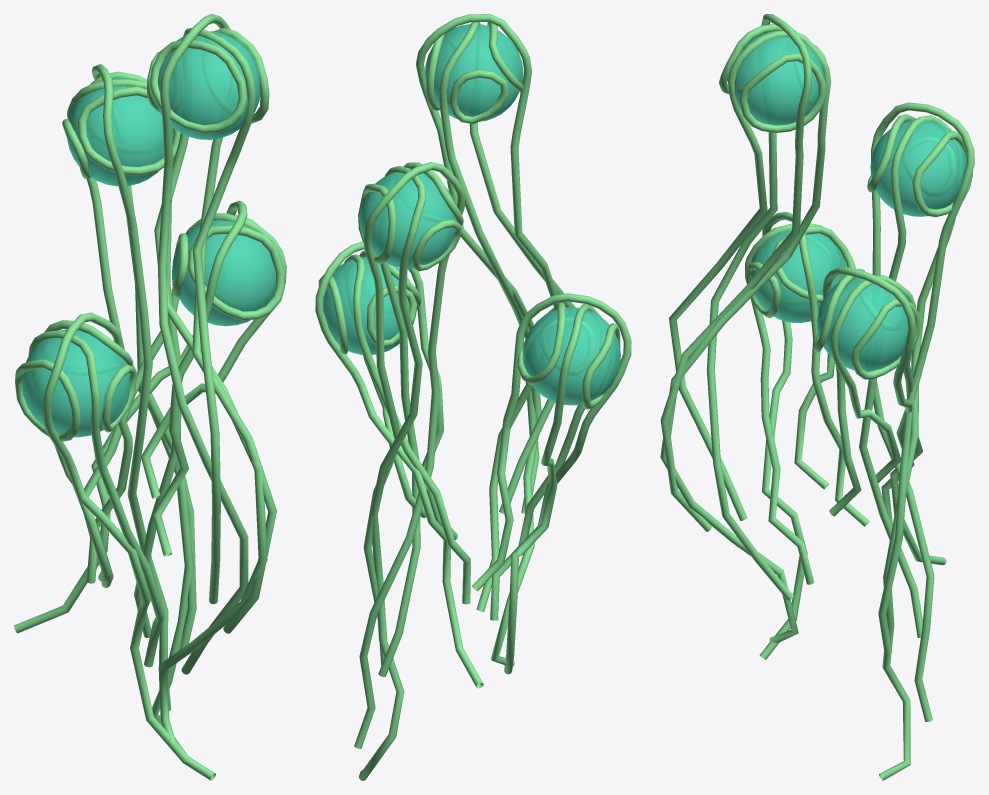
File: Floating balls.fbx
3 views of the same model, side by side, from view 1: azimuth 30°, elevation 25°; view 2: azimuth 150°, elevation 25°; view 3: azimuth 270°, elevation 25° (orthographic). The views are drawn at different scales.
Parts seen in each view (by area): view 1: Sphere.003, Sphere.001, Sphere.007, Sphere.005, Sphere.006, Sphere.002, Sphere, Sphere.004; view 2: Sphere.001, Sphere.003, Sphere.007, Sphere.005, Sphere.006, Sphere.002, Sphere, Sphere.004; view 3: Sphere.003, Sphere.001, Sphere.007, Sphere.005, Sphere, Sphere.004, Sphere.002, Sphere.006.
Boxes of the visible parts, bbox=[...] form: Sphere.003: bbox=[147, 14, 276, 746]; Sphere.001: bbox=[62, 64, 215, 780]; Sphere.007: bbox=[15, 312, 188, 762]; Sphere.005: bbox=[14, 200, 286, 633]; Sphere.006: bbox=[21, 329, 130, 437]; Sphere.002: bbox=[155, 31, 260, 139]; Sphere: bbox=[67, 77, 173, 186]; Sphere.004: bbox=[172, 220, 275, 326]; Sphere.001: bbox=[354, 162, 465, 780]; Sphere.003: bbox=[416, 14, 574, 666]; Sphere.007: bbox=[472, 293, 631, 674]; Sphere.005: bbox=[315, 241, 483, 688]; Sphere.006: bbox=[522, 307, 620, 405]; Sphere.002: bbox=[425, 24, 523, 121]; Sphere: bbox=[360, 172, 456, 268]; Sphere.004: bbox=[323, 257, 416, 354]; Sphere.003: bbox=[660, 14, 831, 642]; Sphere.001: bbox=[859, 102, 974, 780]; Sphere.007: bbox=[745, 212, 869, 659]; Sphere.005: bbox=[813, 266, 946, 565]; Sphere: bbox=[870, 119, 966, 216]; Sphere.004: bbox=[817, 275, 908, 371]; Sphere.002: bbox=[734, 30, 824, 125]; Sphere.006: bbox=[750, 229, 845, 322].
Bounding box in the file's own units: 594 × 1607 × 625.
